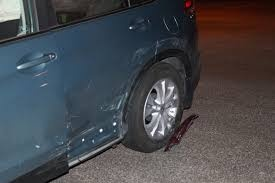Dent: (51, 91, 120, 160)
Scratch: (127, 36, 186, 67), (34, 69, 51, 88)
